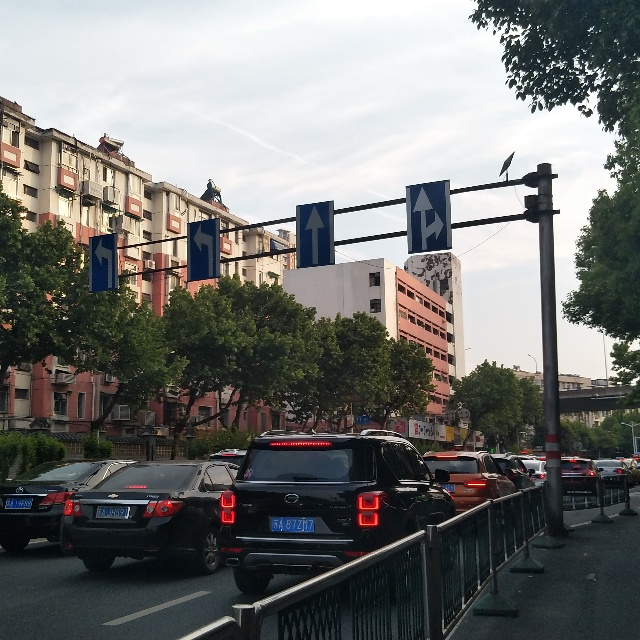left: (187, 219, 221, 281), (88, 234, 119, 292)
straight: (295, 200, 336, 269)
